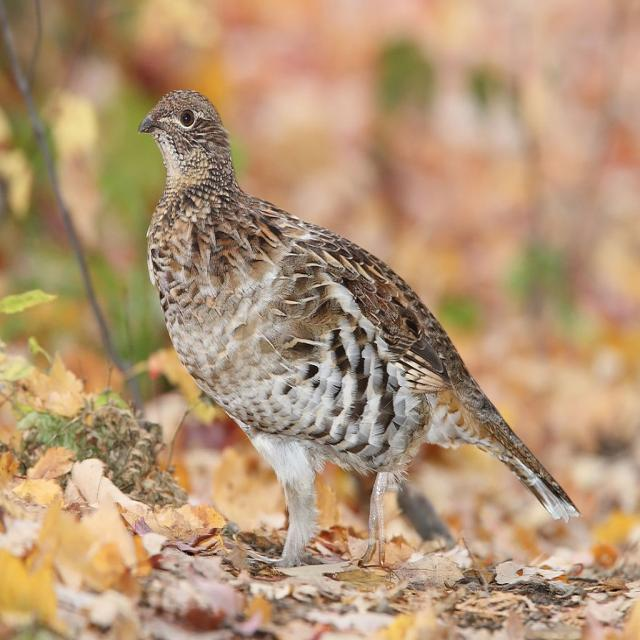bird: (136, 87, 584, 571)
